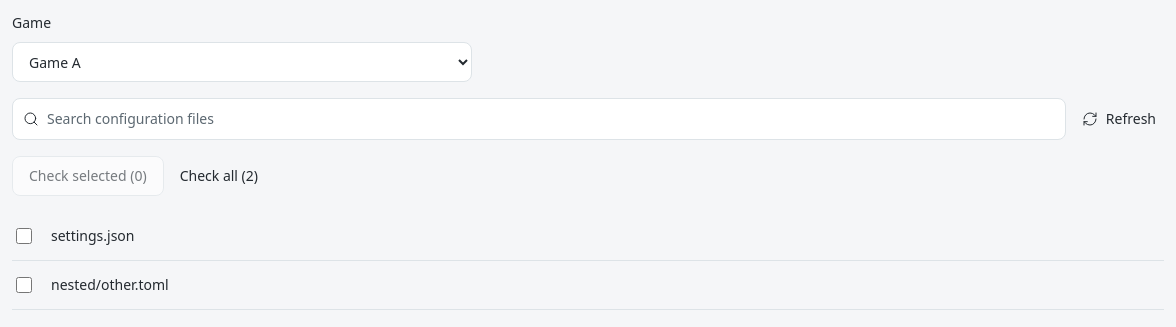
checks all explicit eligible IDs and displays authoritative batch skip and limit counts
Type "settings" into the search field with placeholder "Search configuration files" at (551, 119), box [47, 99, 1055, 139]
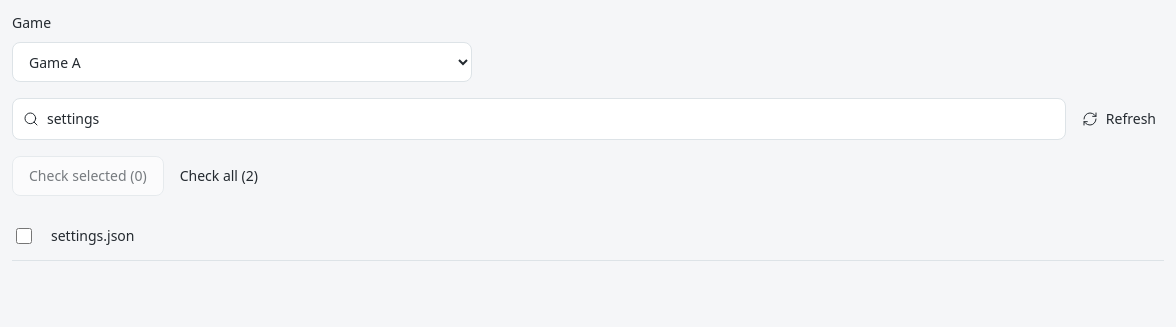
Click the button "Check all (2)" at (219, 176), box [172, 160, 266, 192]
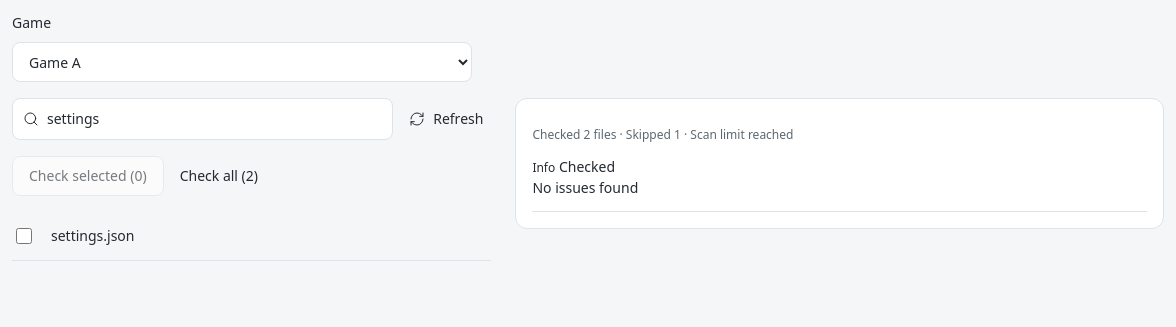
Now the text "Checked 2 files · Skipped 1" is shown, box [532, 126, 681, 143]
Now the text "Scan limit reached" is shown, box [681, 126, 794, 143]
